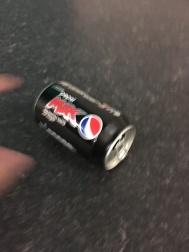can_black: (26, 68, 146, 179)
